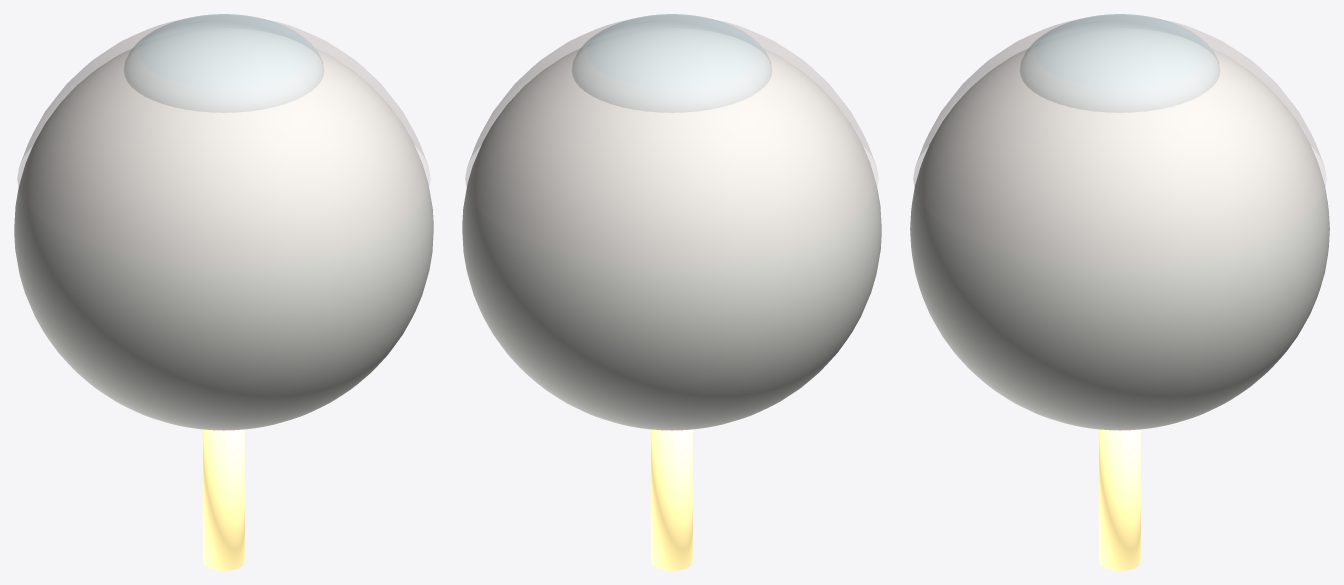
The model's file is eye_schematic.glb.
3 views of the same model, side by side, from view 1: azimuth 30°, elevation 25°; view 2: azimuth 150°, elevation 25°; view 3: azimuth 270°, elevation 25° (orthographic).
Visible parts, largest first — view 1: Sclera, Conjunctiva, Cornea, OpticNerve; view 2: Sclera, Conjunctiva, Cornea, OpticNerve; view 3: Sclera, Conjunctiva, Cornea, OpticNerve.
Part boxes in pixels (<box>): Sclera: <box>14,28,433,430</box>; Conjunctiva: <box>17,15,430,265</box>; Cornea: <box>124,14,323,112</box>; OpticNerve: <box>203,429,244,570</box>; Sclera: <box>462,28,881,430</box>; Conjunctiva: <box>465,15,878,265</box>; Cornea: <box>572,14,771,112</box>; OpticNerve: <box>651,429,692,570</box>; Sclera: <box>910,28,1329,430</box>; Conjunctiva: <box>913,15,1326,265</box>; Cornea: <box>1020,14,1219,112</box>; OpticNerve: <box>1099,429,1140,570</box>.
Bounding box in the file's own units: 2 × 2.79 × 2.
